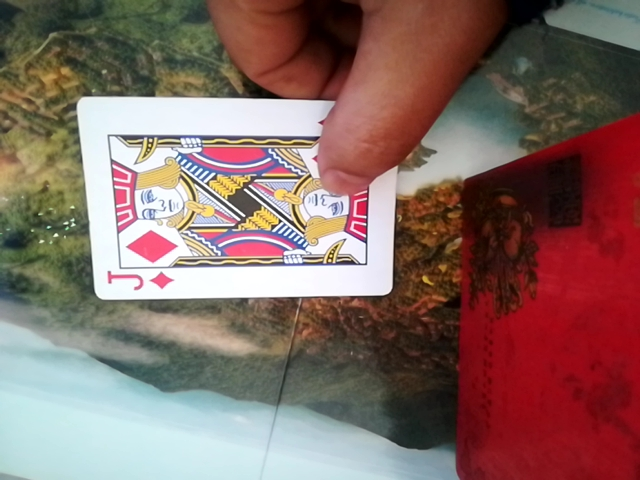fk j: (80, 92, 398, 299)
